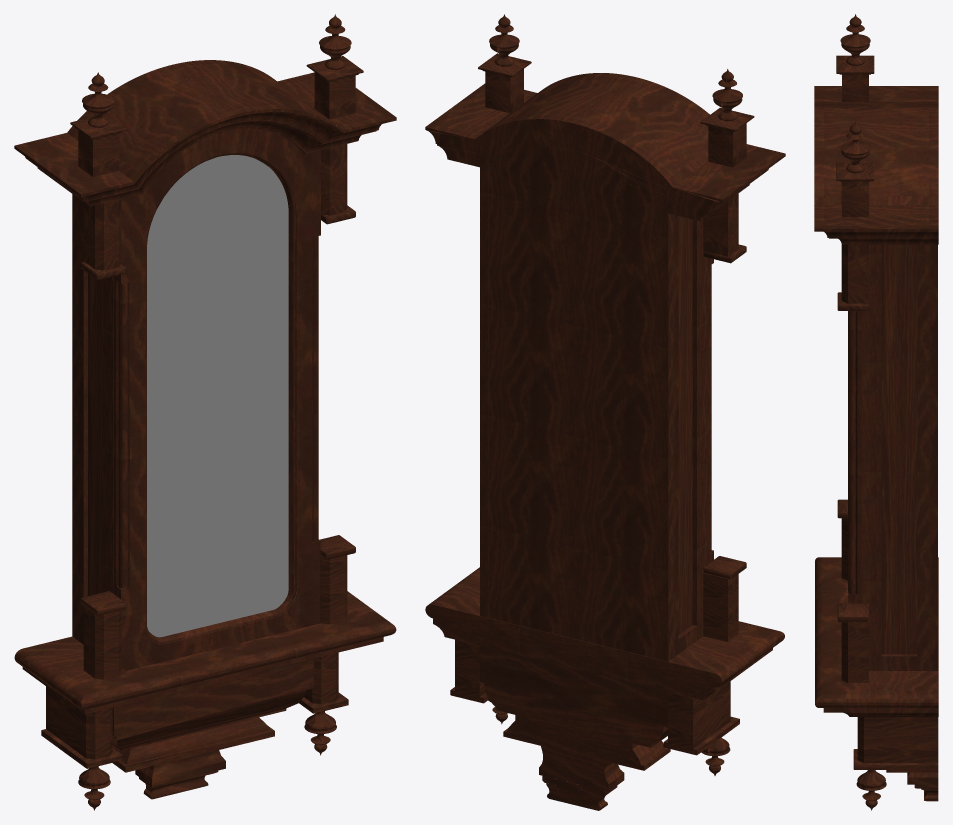
Rendered from Clock 6.FBX.
The picture shows the model from 3 angles, left to right: view 1: azimuth 30°, elevation 25°; view 2: azimuth 150°, elevation 25°; view 3: azimuth 270°, elevation 25°; orthographic projection. The views are drawn at different scales.
Parts seen in each view (by area): view 1: clock 6; view 2: clock 6; view 3: clock 6.
Boxes of the visible parts, x1,y1,x2,y2 form: clock 6: [14, 14, 396, 810]; clock 6: [425, 14, 785, 810]; clock 6: [814, 14, 938, 810].
Bounding box in the file's own units: 2803 × 6599 × 1028.
